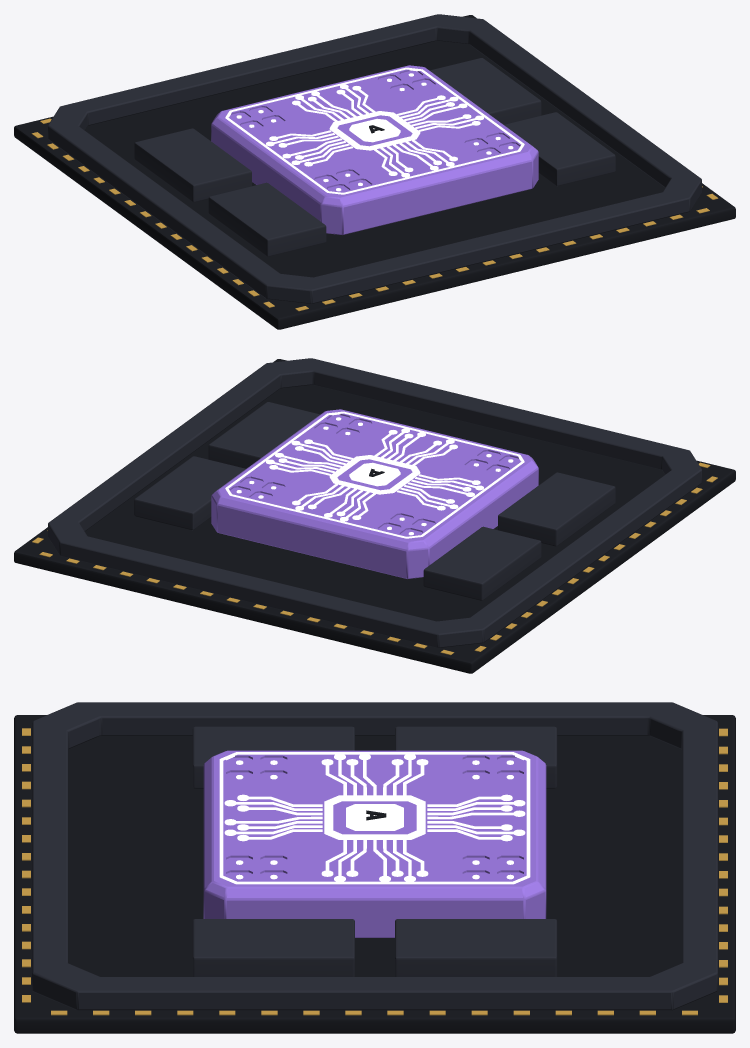
The model's file is NpuChip.glb.
3 renders of one model, top to bottom at view 1: azimuth 30°, elevation 25°; view 2: azimuth 150°, elevation 25°; view 3: azimuth 270°, elevation 25°, orthographic. The views are drawn at different scales.
Visible parts, largest first — view 1: Frame__Metal__2A2D38, Substrate__SmoothPlastic__16181E, Die__SmoothPlastic__9F7AEA, Circuits__Neon__E9D8FD, Pads__Foil__D4A64A; view 2: Frame__Metal__2A2D38, Substrate__SmoothPlastic__16181E, Die__SmoothPlastic__9F7AEA, Circuits__Neon__E9D8FD, Pads__Foil__D4A64A; view 3: Substrate__SmoothPlastic__16181E, Frame__Metal__2A2D38, Die__SmoothPlastic__9F7AEA, Circuits__Neon__E9D8FD, Pads__Foil__D4A64A.
Part boxes in pixels (bbox=[...]): Frame__Metal__2A2D38: bbox=[48, 14, 701, 303]; Substrate__SmoothPlastic__16181E: bbox=[14, 15, 735, 329]; Die__SmoothPlastic__9F7AEA: bbox=[211, 65, 538, 234]; Circuits__Neon__E9D8FD: bbox=[225, 67, 524, 194]; Pads__Foil__D4A64A: bbox=[31, 118, 718, 311]; Frame__Metal__2A2D38: bbox=[48, 358, 701, 647]; Substrate__SmoothPlastic__16181E: bbox=[14, 359, 735, 673]; Die__SmoothPlastic__9F7AEA: bbox=[211, 409, 538, 578]; Circuits__Neon__E9D8FD: bbox=[225, 411, 524, 538]; Pads__Foil__D4A64A: bbox=[32, 462, 717, 655]; Substrate__SmoothPlastic__16181E: bbox=[14, 715, 735, 1033]; Frame__Metal__2A2D38: bbox=[32, 702, 717, 1010]; Die__SmoothPlastic__9F7AEA: bbox=[203, 750, 546, 937]; Circuits__Neon__E9D8FD: bbox=[219, 752, 530, 884]; Pads__Foil__D4A64A: bbox=[22, 728, 727, 1015].
Size of the model in its own units: 40 by 4.14 by 40.
